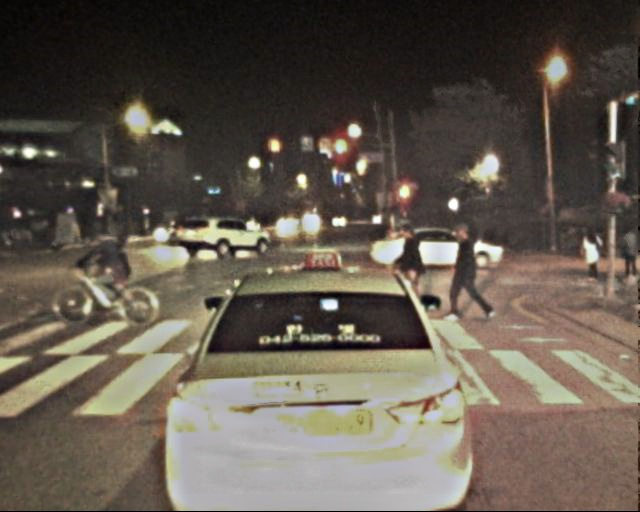person: (447, 225, 490, 331), (392, 226, 434, 328), (94, 222, 131, 313), (581, 226, 607, 289), (616, 225, 640, 287)
